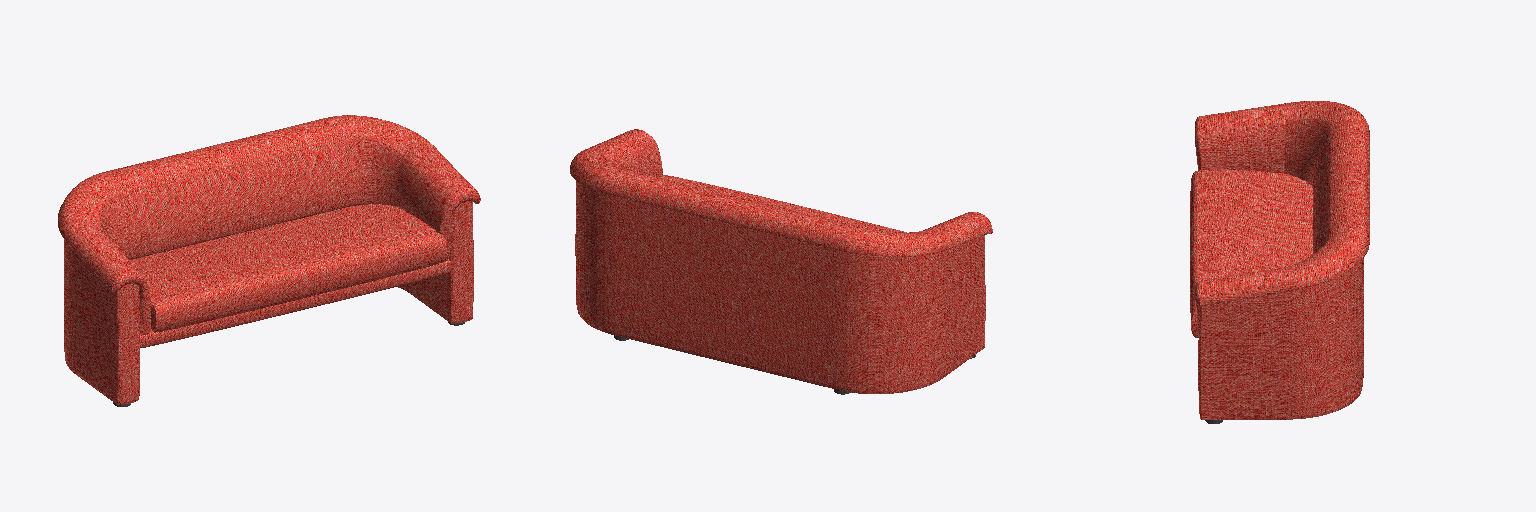
The picture shows the model from 3 angles: view 1: azimuth 30°, elevation 25°; view 2: azimuth 150°, elevation 25°; view 3: azimuth 270°, elevation 25°; orthographic projection.
Parts seen in each view (by area): view 1: Rectangle02, Line02, Line01, Rectangle03, Rectangle04, Rectangle05; view 2: Rectangle03, Rectangle04, Line01, Line02, Rectangle02; view 3: Rectangle04, Rectangle02, Line01, Line02.
Part boxes in pixels (x1,y1,x2,y2): Rectangle02: (130,204,446,332); Line02: (217,115,480,261); Line01: (58,145,239,334); Rectangle03: (64,240,139,404); Rectangle04: (398,201,473,323); Rectangle05: (140,259,450,347); Rectangle03: (726,223,985,393); Rectangle04: (575,181,726,362); Line01: (723,197,992,256); Line02: (570,129,735,221); Rectangle02: (660,175,906,232); Rectangle04: (1198,258,1363,419); Rectangle02: (1190,169,1312,337); Line01: (1195,101,1369,223); Line02: (1195,173,1369,319).
Bounding box in the file's own units: 686 × 294 × 290.
Materials: 2 (1 with a texture image).